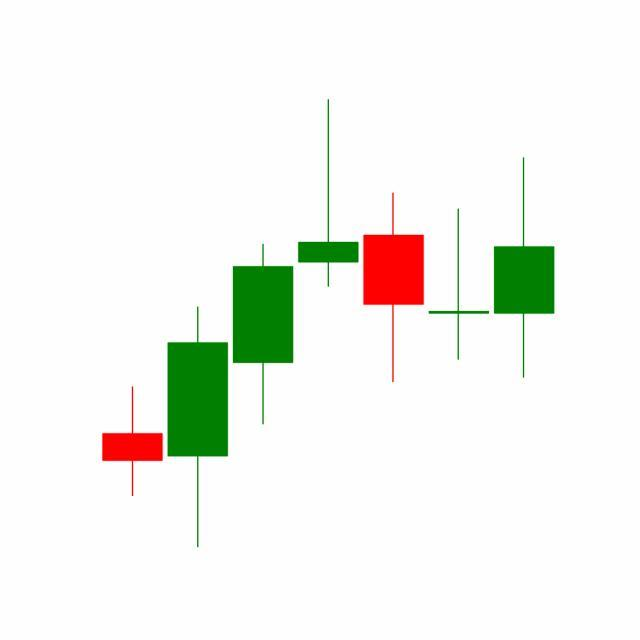Morning Star: (360, 155, 556, 386)
